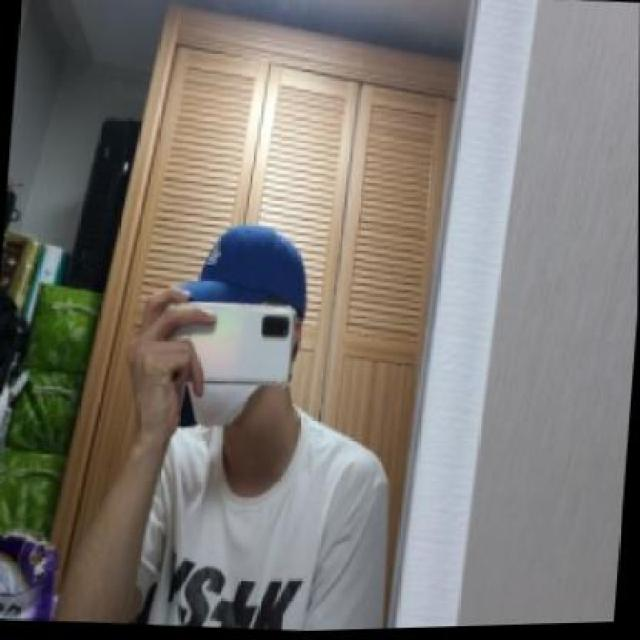hat: (177, 218, 314, 313)
